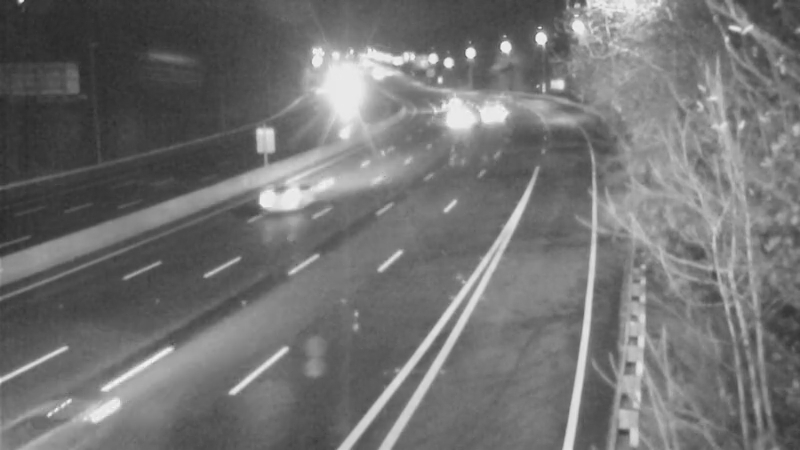vehicle: (235, 155, 315, 235), (425, 74, 475, 124), (464, 90, 514, 140), (425, 92, 475, 142)
